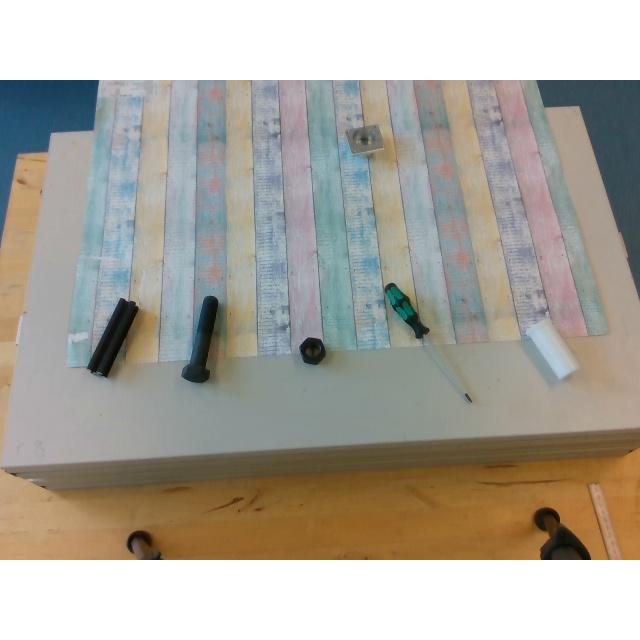F20_20_B: (88, 298, 136, 374)
M20: (300, 334, 326, 366)
M20_100: (182, 295, 218, 381)
Screwdriver: (382, 282, 476, 406)
Spacer: (526, 322, 578, 378)
